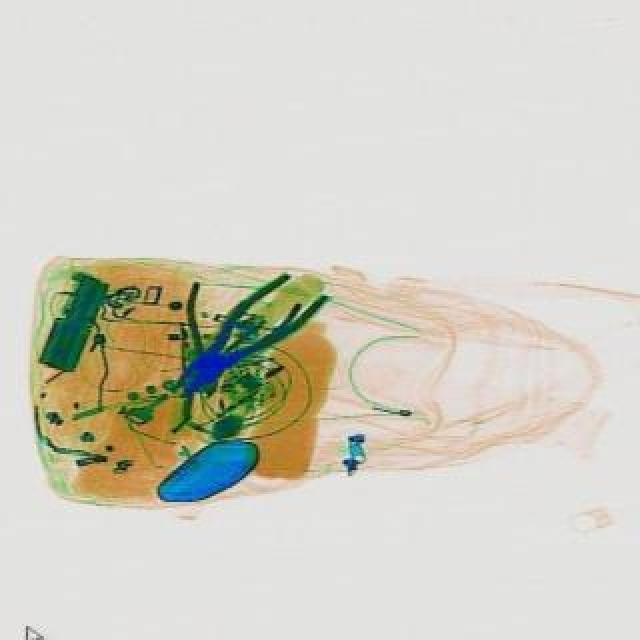wrench: (154, 258, 328, 418), (140, 256, 300, 412)
